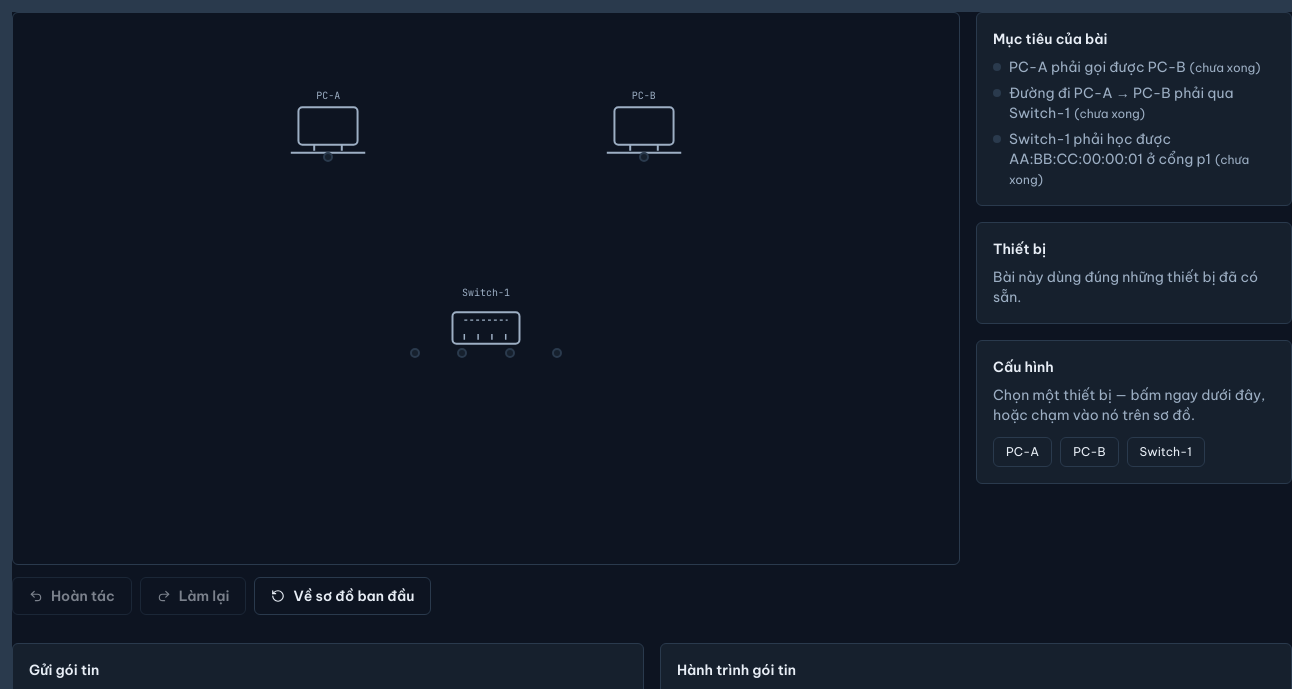
nối dây bằng bấm chọn hai đầu › đang cầm dây thì bỏ được, không kẹt
Click the 1st button "PC-A": (328, 131) [291,105,366,157]
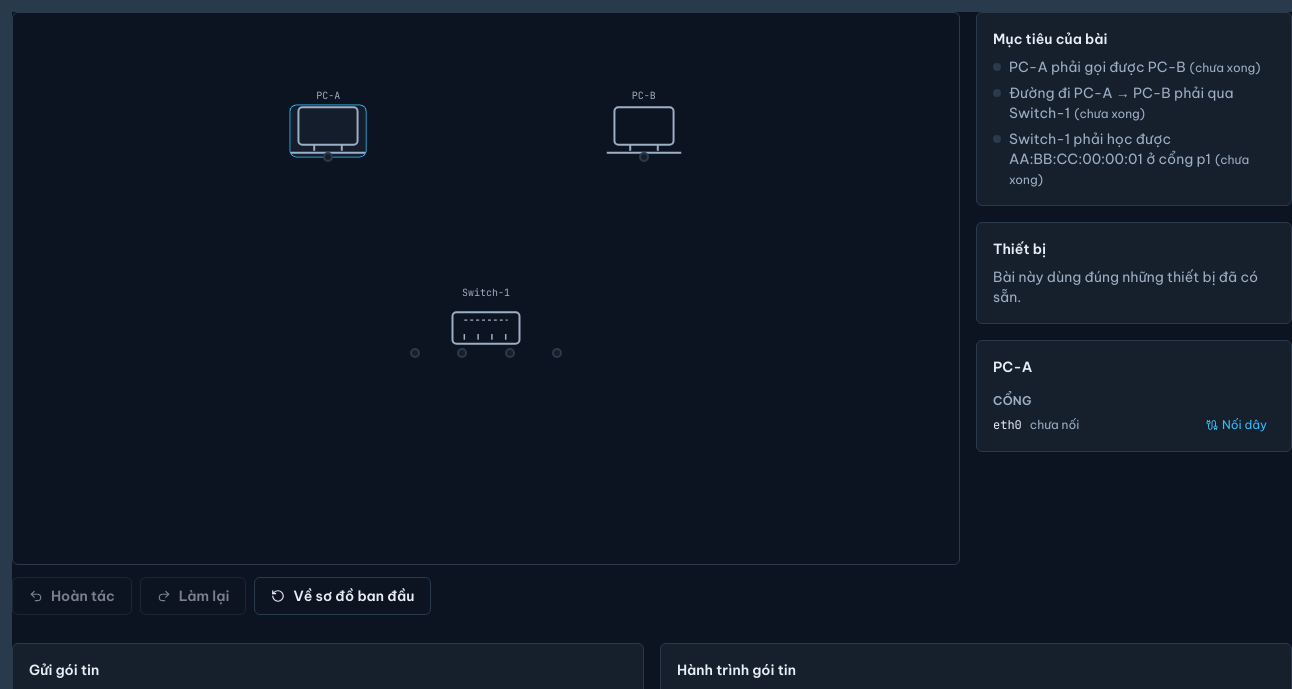
Click the button "Nối dây": (1236, 425) [1198,415,1275,435]
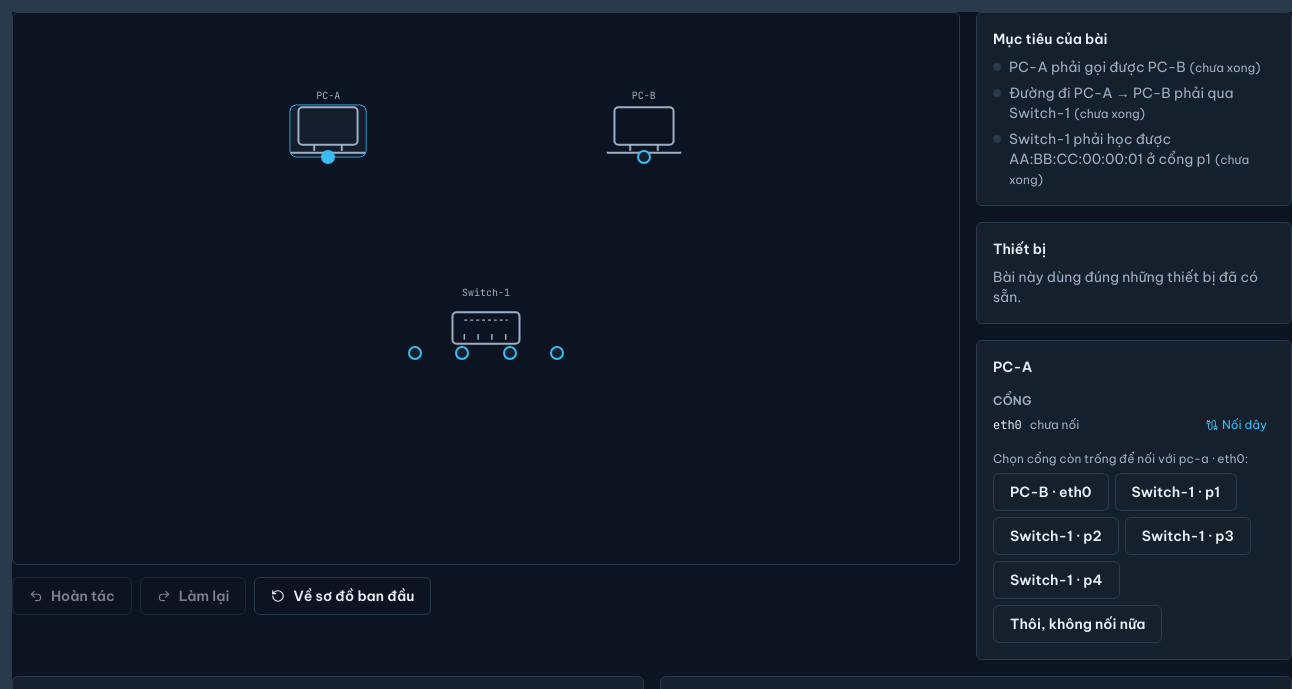
Click the button "Thôi, không nối nữa": (1078, 624) [993,605,1162,643]
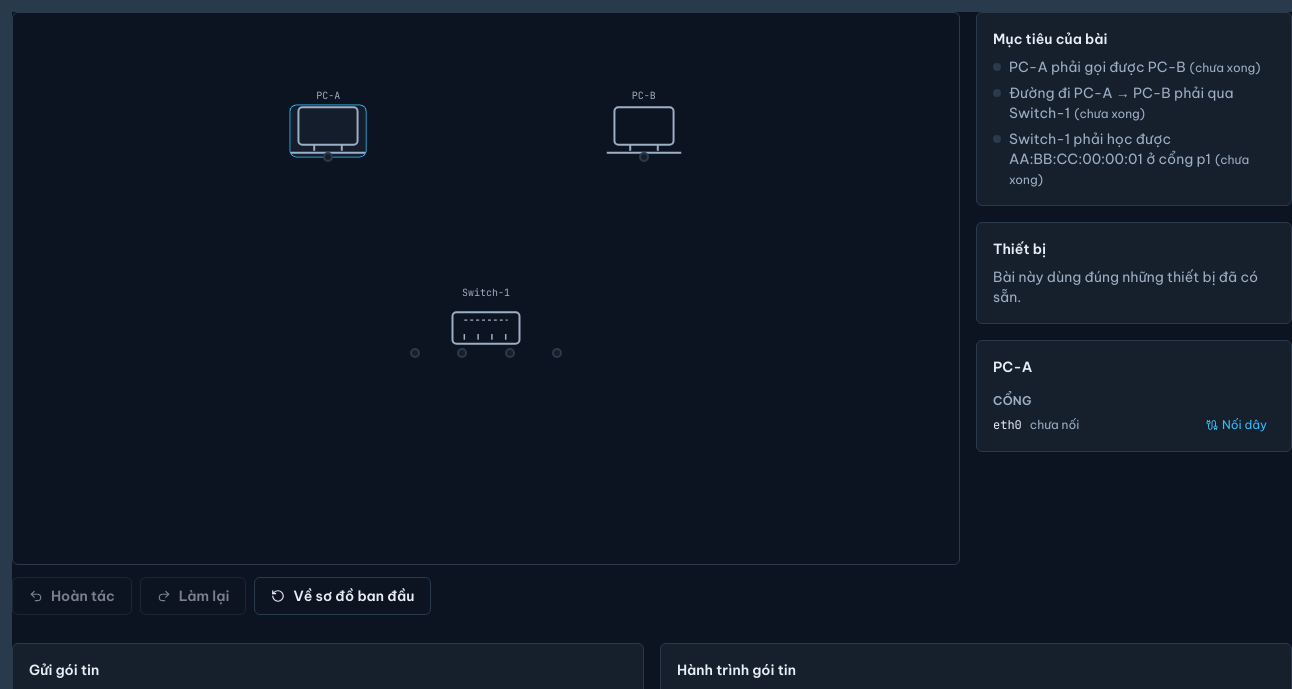
Check: the button "Switch-1 · p1" is gone
